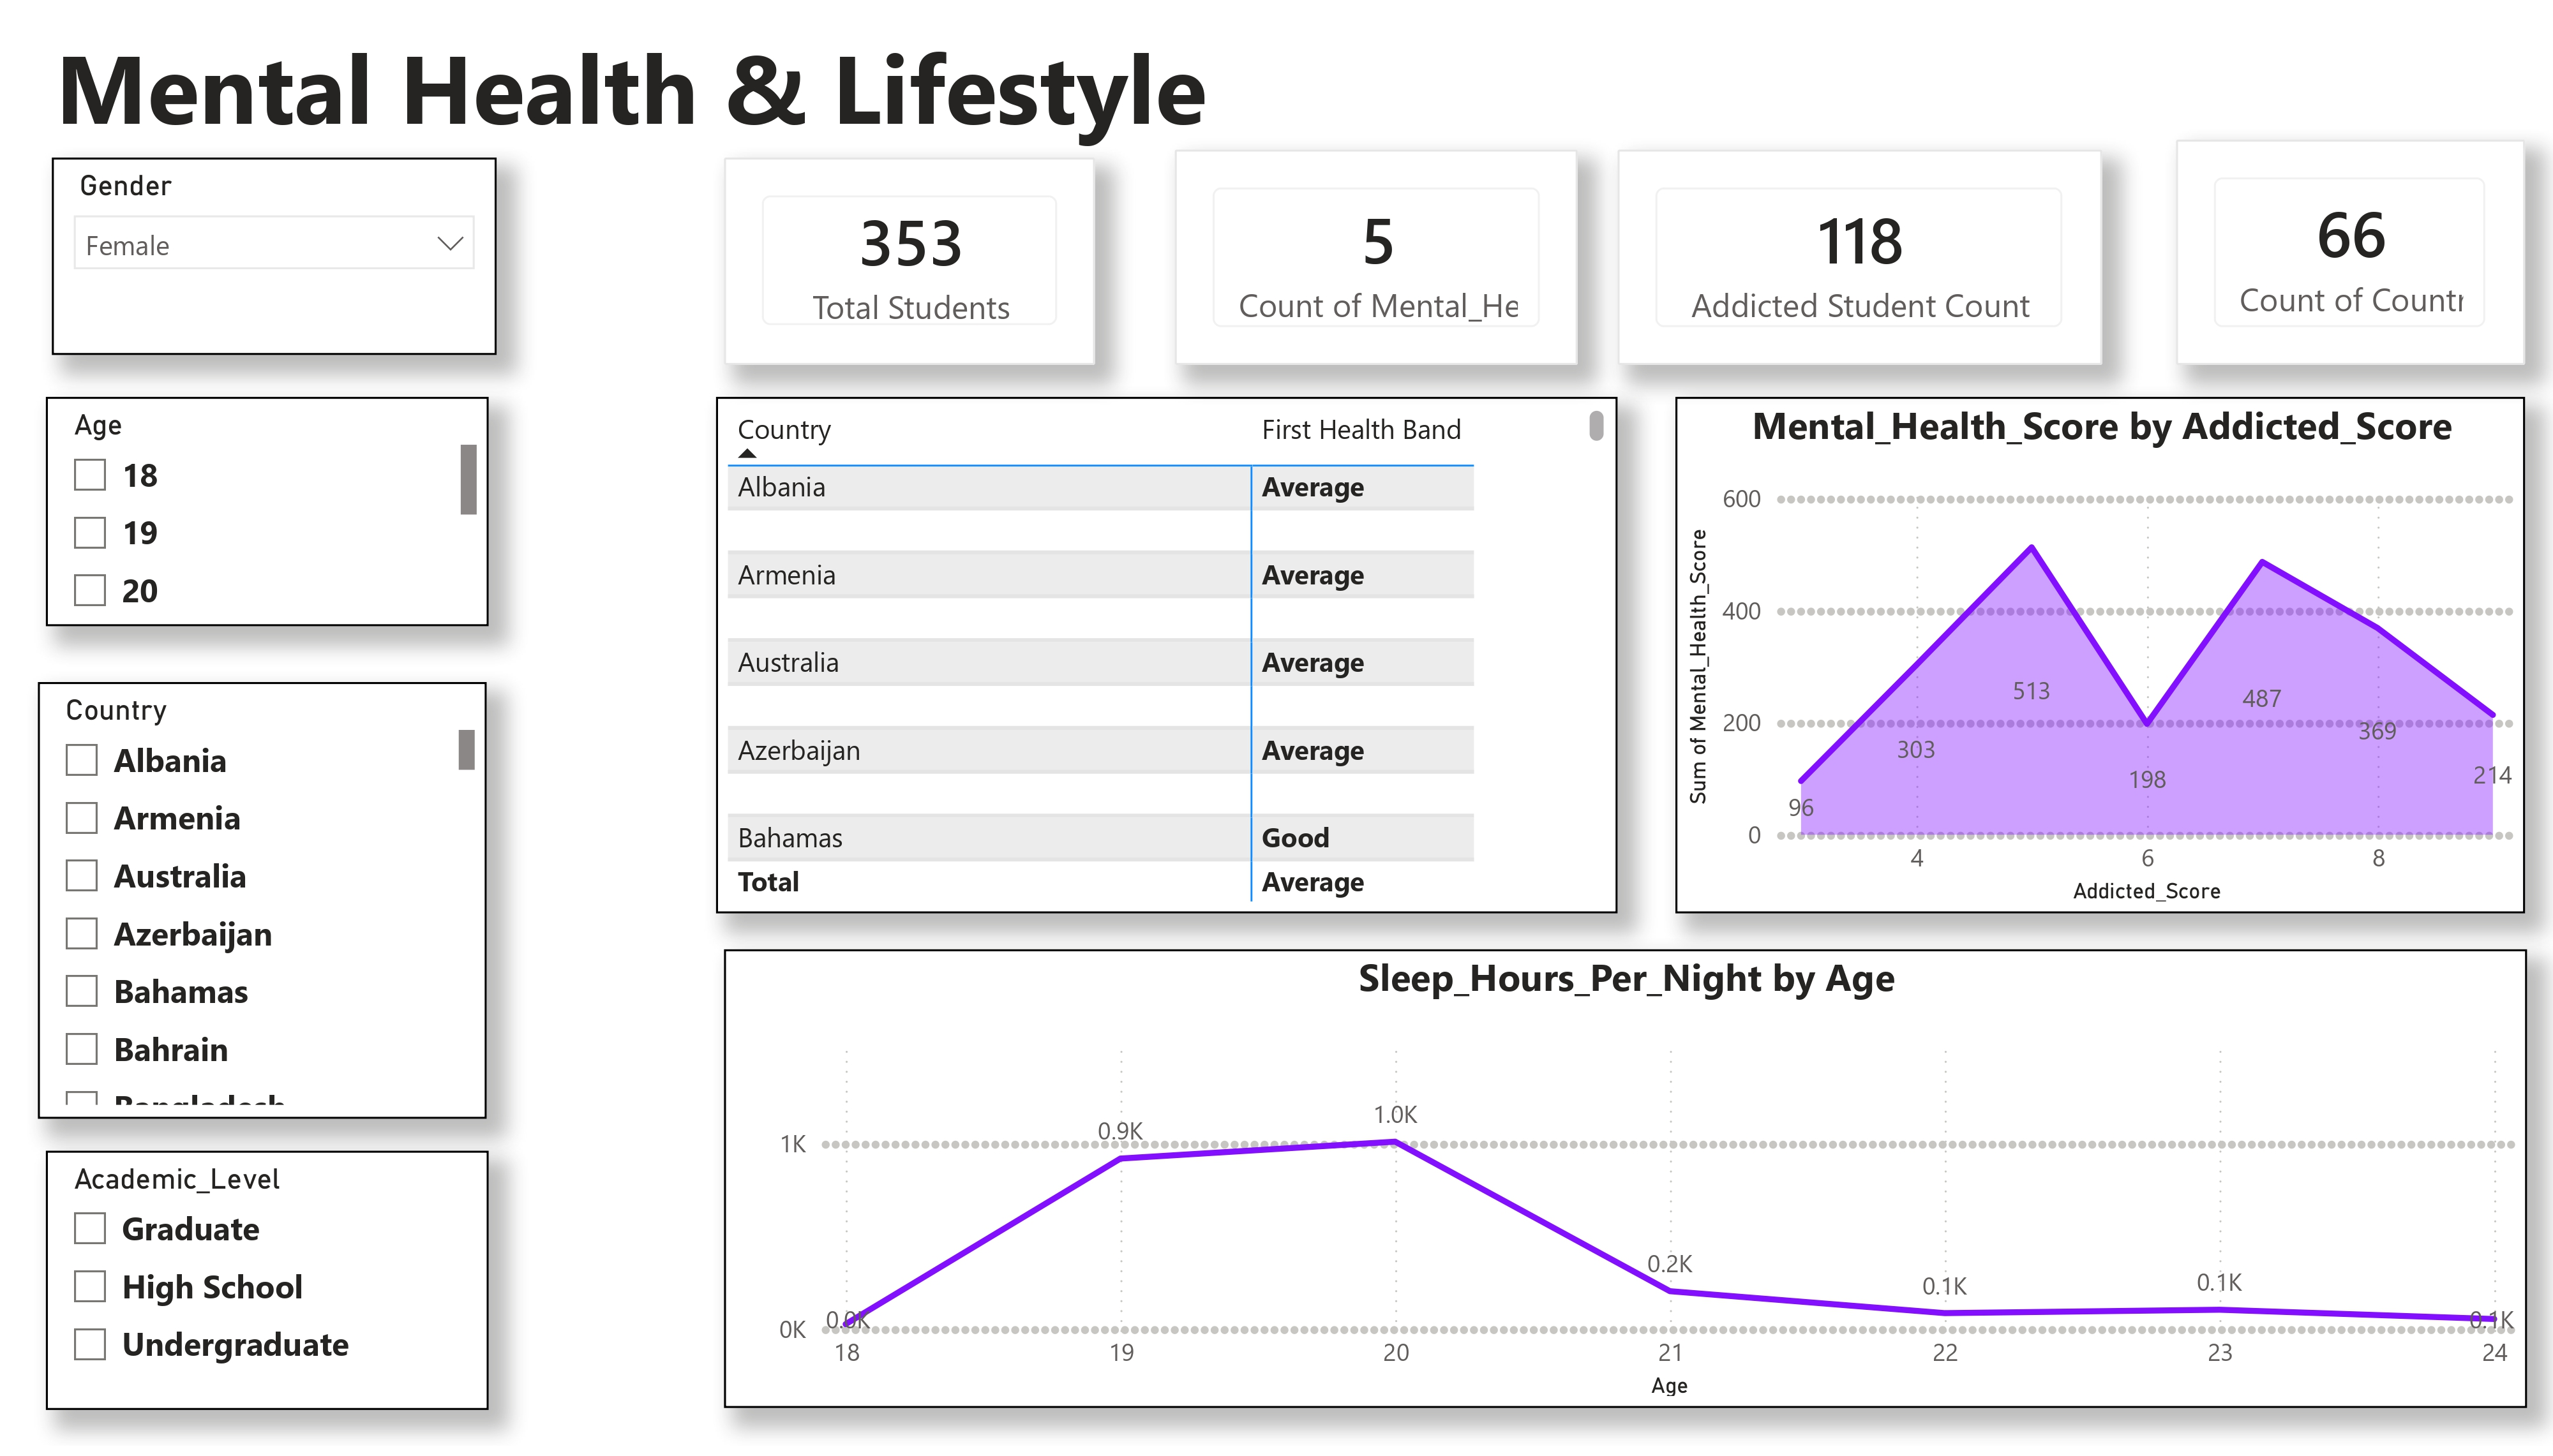

What the dashboard file says about the page in this screenshot:
{"tool":"powerbi","page":{"name":"Mental Health & Lifestyle","canvas":[1280,720],"ordinal":1},"visuals":[{"type":"pivotTable","fields":{"Rows":["Student Details.Country"],"Values":["Min(Student Details.Health Band)"]},"box":[359.5,194.3,451.8,259.1],"z":0},{"type":"stackedAreaChart","title":" Mental_Health_Score by Addicted_Score","fields":{"Category":["Student Details.Addicted_Score"],"Y":["Sum(Student Details.Mental_Health_Score)"]},"box":[840.4,194.3,425.9,259.1],"z":1000},{"type":"lineChart","title":" Sleep_Hours_Per_Night by Age","fields":{"Category":["Student Details.Age"],"Y":["Sum(Student Details.Sleep_Hours_Per_Night)"]},"box":[362.7,471.2,903.5,229.9],"z":2000},{"type":"textbox","box":[22.7,0,714.1,74.5],"z":3000},{"type":"slicer","fields":{"Values":["Student Details.Gender"]},"box":[25.9,74.5,223.5,98.8],"z":3001},{"type":"slicer","fields":{"Values":["Student Details.Country"]},"box":[19.4,336.8,225.1,218.6],"z":3002},{"type":"slicer","fields":{"Values":["Student Details.Academic_Level"]},"box":[22.7,571.6,221.8,129.5],"z":3003},{"type":"slicer","fields":{"Values":["Student Details.Age"]},"box":[22.7,194.3,221.8,115],"z":3004},{"type":"cardVisual","fields":{"Data":["Student Details.Total Students"]},"box":[362.7,74.5,186.2,103.6],"z":3005},{"type":"cardVisual","fields":{"Data":["Student Details.Addicted Student Count"]},"box":[811.2,69.6,242.9,108.5],"z":3006},{"type":"cardVisual","fields":{"Data":["Count(Student Details.Mental_Health_Score)"]},"box":[589.4,69.6,202.4,108.5],"z":3007},{"type":"cardVisual","fields":{"Data":["Count(Student Details.Country)"]},"box":[1091.4,64.8,174.9,113.3],"z":3008}]}

Visuals, with their boxes in screenshot pixels (x1, y1, x2, y2), scaled from the page's 1280x720 canvas onto the 2553x1456 screenshot:
pivotTable - Student Details.Country x Min(Student Details.Health Band): [x1=717, y1=393, x2=1618, y2=917]
" Mental_Health_Score by Addicted_Score" stackedAreaChart: [x1=1676, y1=393, x2=2526, y2=917]
" Sleep_Hours_Per_Night by Age" lineChart: [x1=723, y1=953, x2=2526, y2=1418]
textbox: [x1=45, y1=0, x2=1469, y2=151]
slicer - Student Details.Gender: [x1=52, y1=151, x2=497, y2=350]
slicer - Student Details.Country: [x1=39, y1=681, x2=488, y2=1123]
slicer - Student Details.Academic_Level: [x1=45, y1=1156, x2=488, y2=1418]
slicer - Student Details.Age: [x1=45, y1=393, x2=488, y2=625]
cardVisual - Student Details.Total Students: [x1=723, y1=151, x2=1095, y2=360]
cardVisual - Student Details.Addicted Student Count: [x1=1618, y1=141, x2=2102, y2=360]
cardVisual - Count(Student Details.Mental_Health_Score): [x1=1176, y1=141, x2=1579, y2=360]
cardVisual - Count(Student Details.Country): [x1=2177, y1=131, x2=2526, y2=360]
